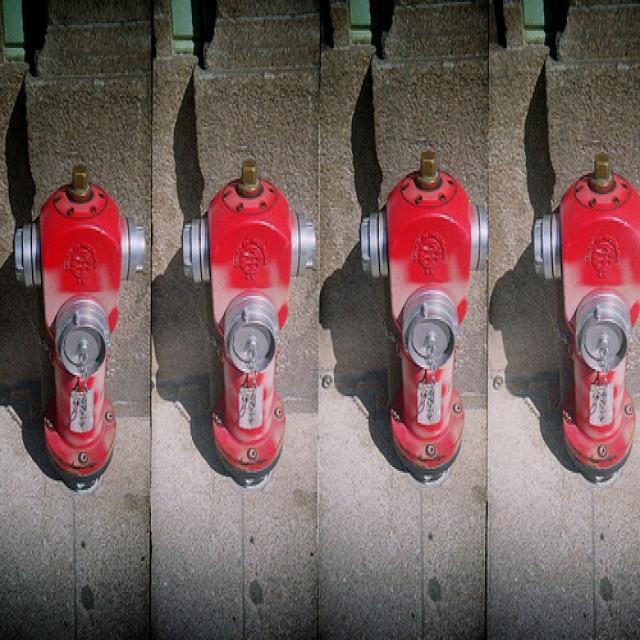fire_hydrant: (184, 152, 318, 488), (11, 162, 146, 490), (360, 148, 490, 471), (535, 152, 640, 490)
